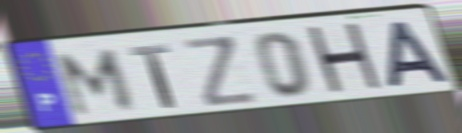0: (252, 30, 317, 102)
A: (384, 19, 455, 91)
H: (302, 19, 389, 100)
M: (55, 47, 139, 119)
T: (125, 41, 178, 110)
Z: (180, 33, 263, 110)
